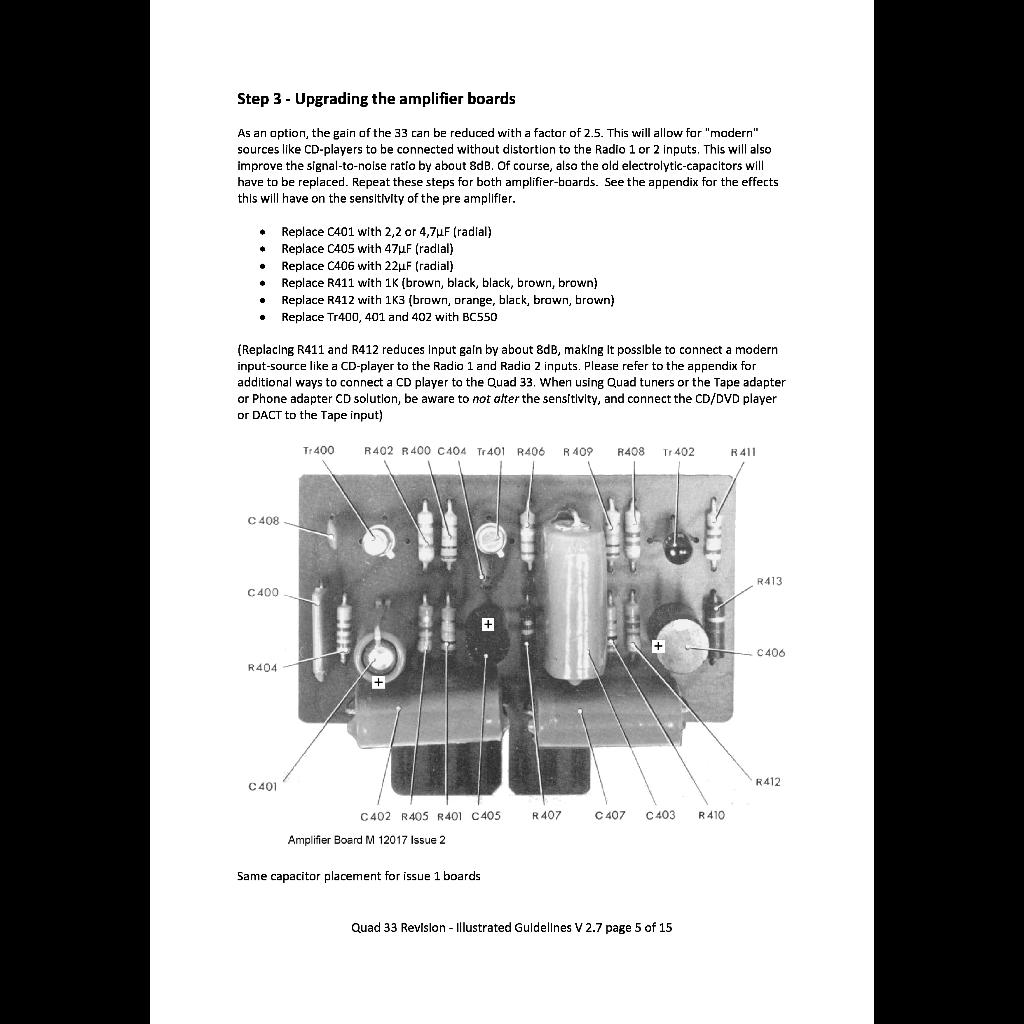Board: (240, 441, 788, 827)
